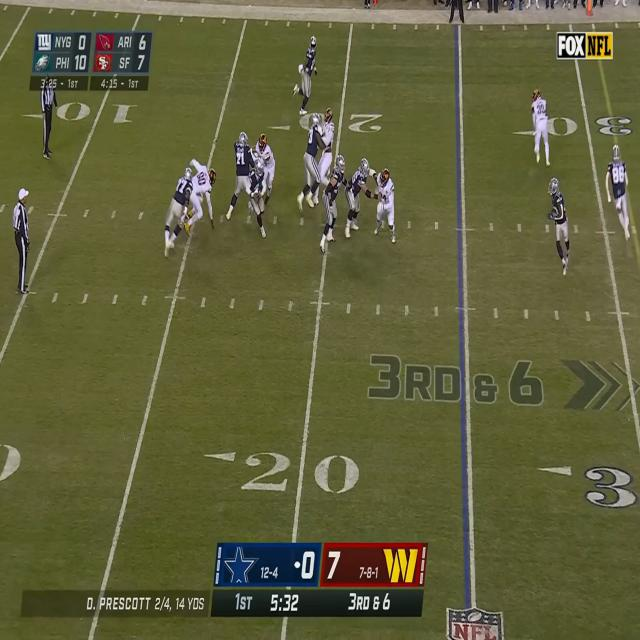football: (253, 190, 261, 208)
players: (543, 176, 578, 276), (604, 144, 636, 244), (162, 167, 194, 261), (224, 131, 256, 225), (299, 113, 325, 215), (372, 168, 403, 250), (346, 155, 376, 239), (291, 32, 319, 119), (187, 162, 217, 238), (319, 154, 342, 252), (527, 88, 554, 169), (247, 158, 270, 240), (253, 131, 276, 206), (322, 106, 341, 191)
